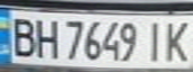4: (100, 18, 124, 62)
6: (81, 17, 103, 61)
7: (60, 17, 84, 61)
9: (118, 18, 142, 62)
B: (6, 15, 39, 57)
H: (30, 15, 60, 60)
I: (139, 18, 169, 63)
K: (160, 17, 193, 64)
